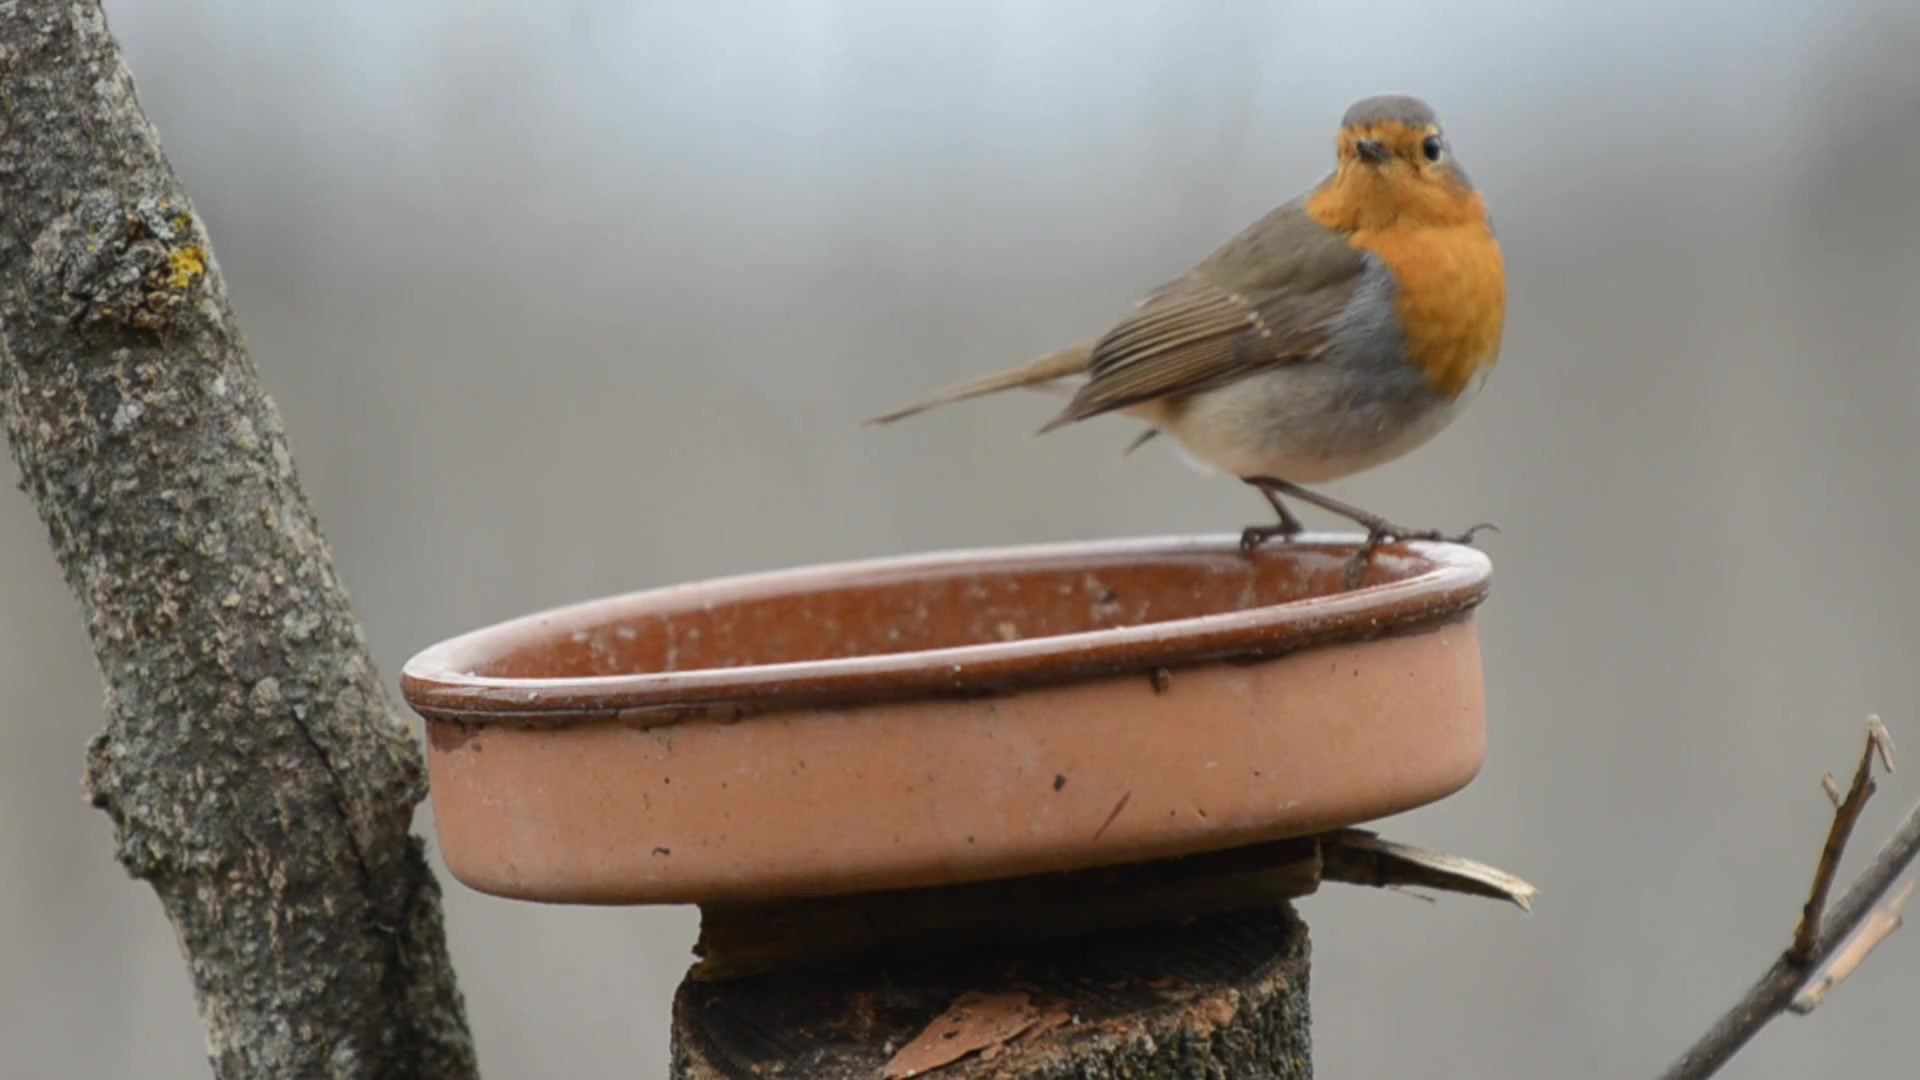bird: (872, 90, 1510, 582)
